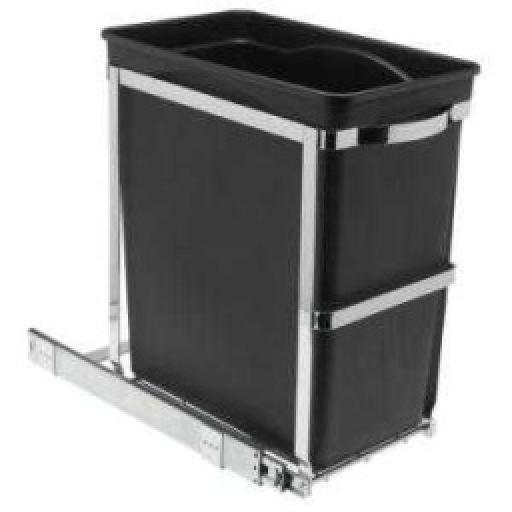trash-can: (72, 0, 492, 499)
